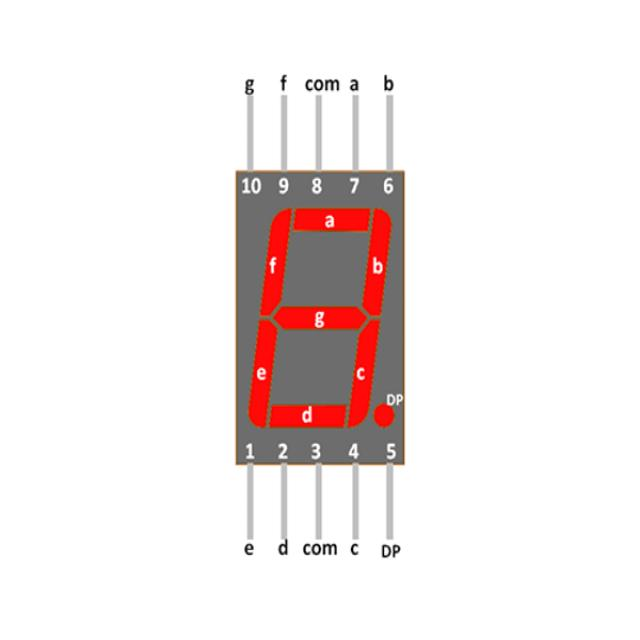Display: (228, 63, 420, 561)
